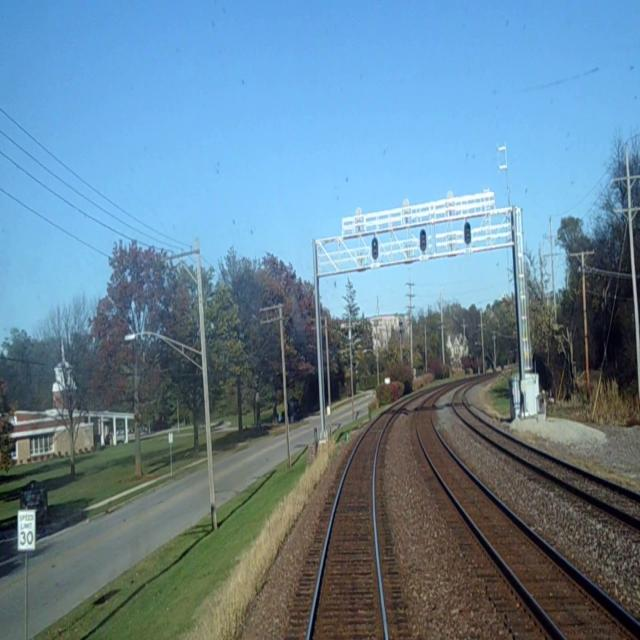rail-track: (419, 398, 640, 639), (455, 391, 640, 515), (310, 413, 389, 639)
